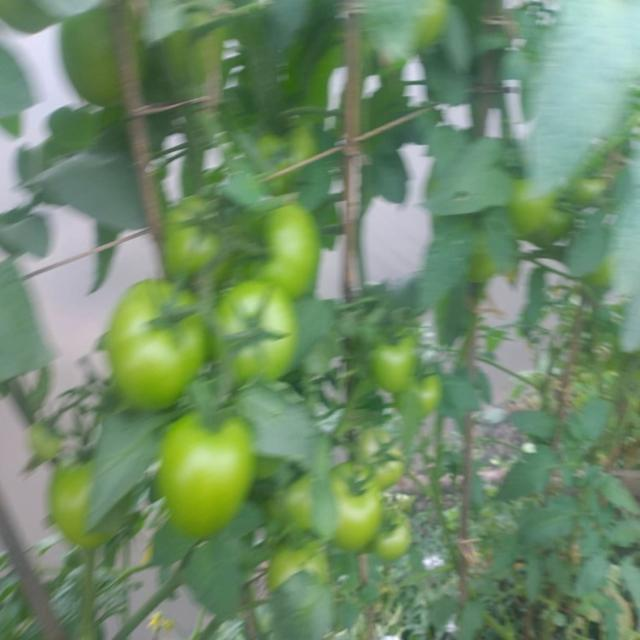tomato: (165, 413, 252, 536), (115, 286, 196, 400), (210, 283, 296, 377), (254, 208, 318, 302), (61, 15, 120, 101), (163, 198, 215, 274), (337, 464, 377, 553), (368, 326, 415, 393), (264, 542, 335, 586), (55, 464, 90, 552), (370, 511, 415, 564), (262, 121, 315, 165), (361, 428, 403, 483), (31, 423, 66, 468), (513, 191, 546, 236), (287, 470, 312, 527), (546, 201, 575, 233), (576, 169, 610, 196), (421, 378, 439, 418)
